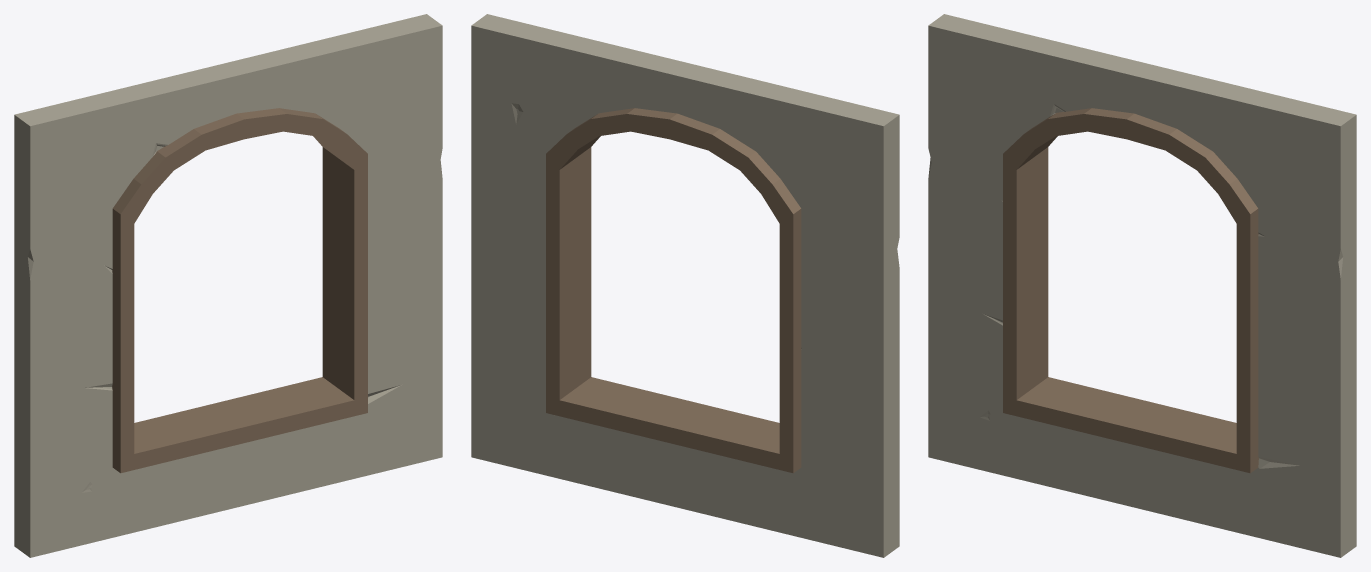
File: victorian_wall_stone_1_window.fbx
The picture shows the model from 3 angles, left to right: view 1: azimuth 30°, elevation 25°; view 2: azimuth 150°, elevation 25°; view 3: azimuth 330°, elevation 25°; orthographic projection.
Parts seen in each view (by area): view 1: Cube.266; view 2: Cube.266; view 3: Cube.266.
Boxes of the visible parts, <box> form: Cube.266: <box>14,14,442,557</box>; Cube.266: <box>471,14,899,557</box>; Cube.266: <box>928,14,1356,557</box>.
Size of the model in its own units: 300 by 300 by 40.
